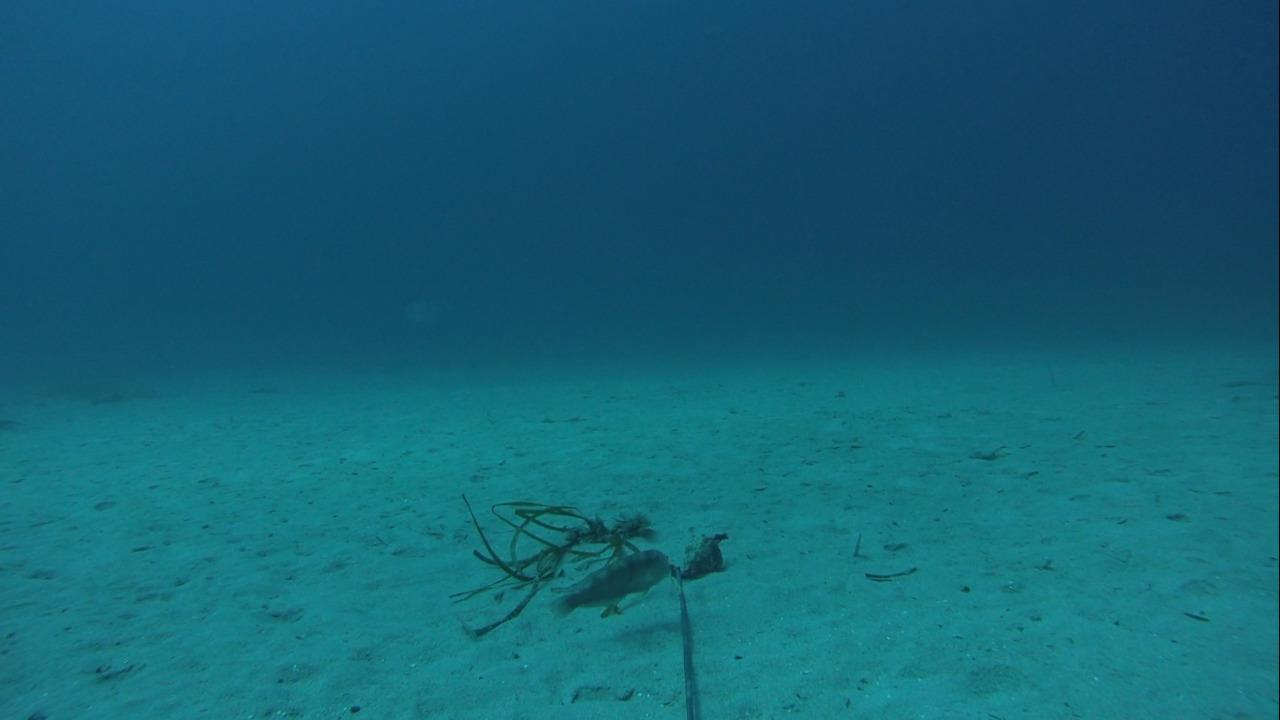raor: (547, 546, 672, 614)
